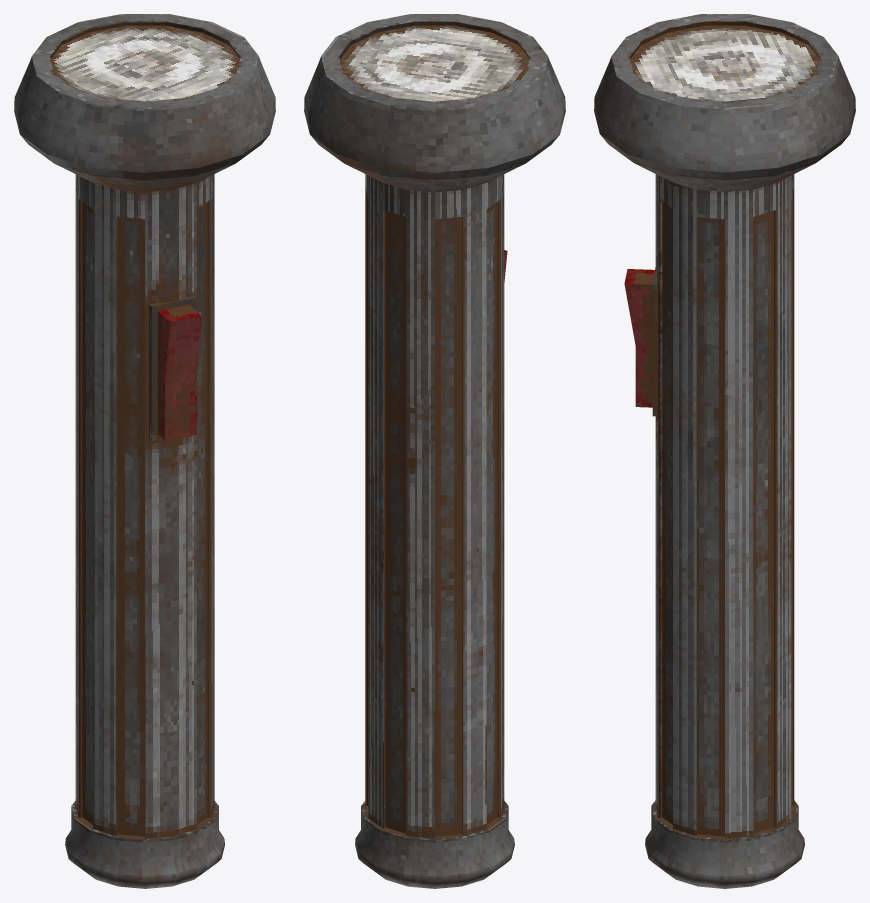
The model's file is FlashLight_Set_2_2.glb.
3 views of the same model, side by side, from view 1: azimuth 30°, elevation 25°; view 2: azimuth 150°, elevation 25°; view 3: azimuth 270°, elevation 25° (orthographic).
Visible parts, largest first — view 1: FlashLight_Set_2_2; view 2: FlashLight_Set_2_2; view 3: FlashLight_Set_2_2.
Boxes of the visible parts, x1,y1,x2,y2 form: FlashLight_Set_2_2: [14, 14, 275, 888]; FlashLight_Set_2_2: [304, 14, 565, 888]; FlashLight_Set_2_2: [594, 14, 855, 888].
Bounding box in the file's own units: 0.061 × 0.2068 × 0.0614.
1 material, 1 textured.
